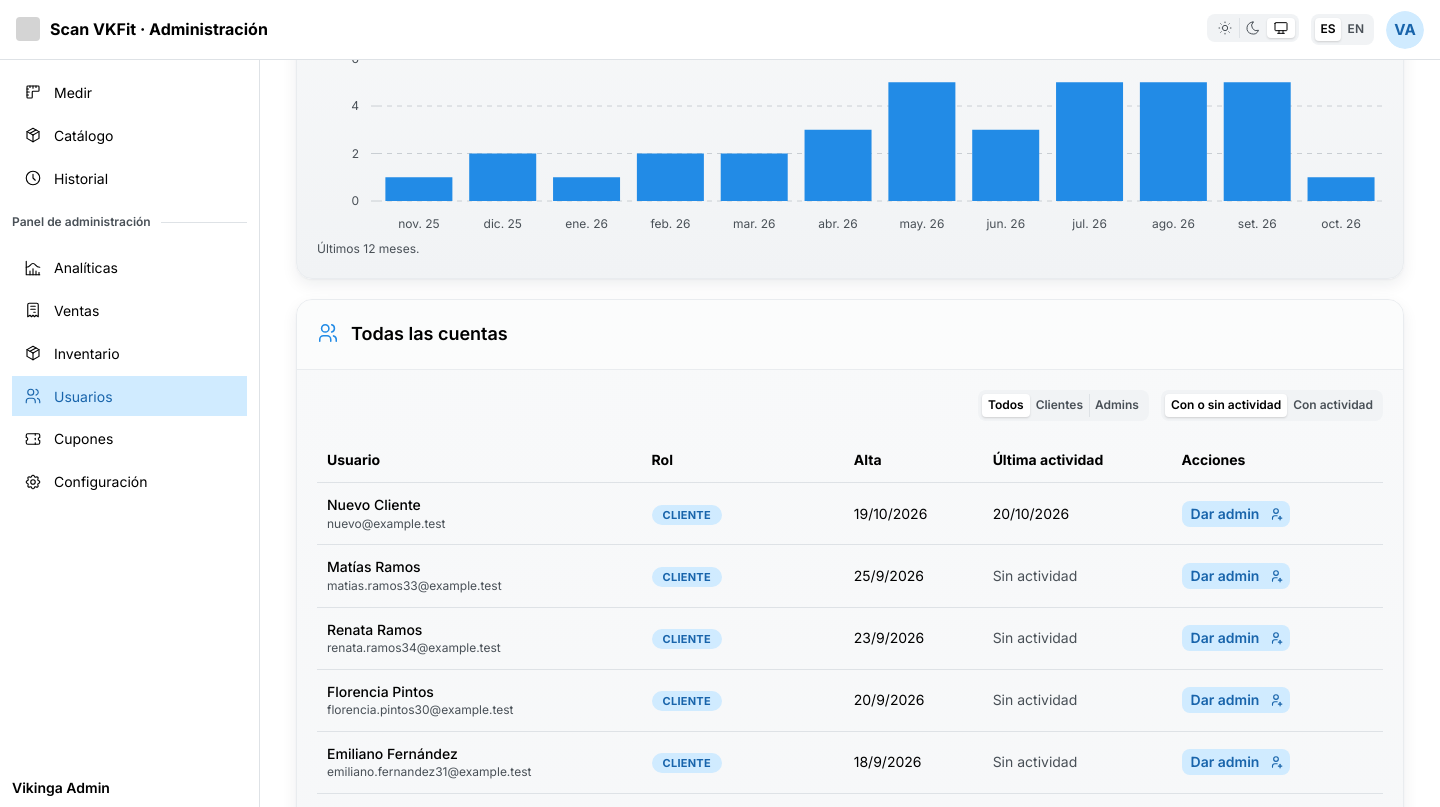
Scenario: cuentas y roles › filtra por rol desde el segmentado
(page scrolled)
Expected: the text "nuevo@example.test" is shown, [327, 516, 446, 531]
Click the 4th radio button labelled "Admins": (1117, 405) [1095, 397, 1139, 412]
(page scrolled)
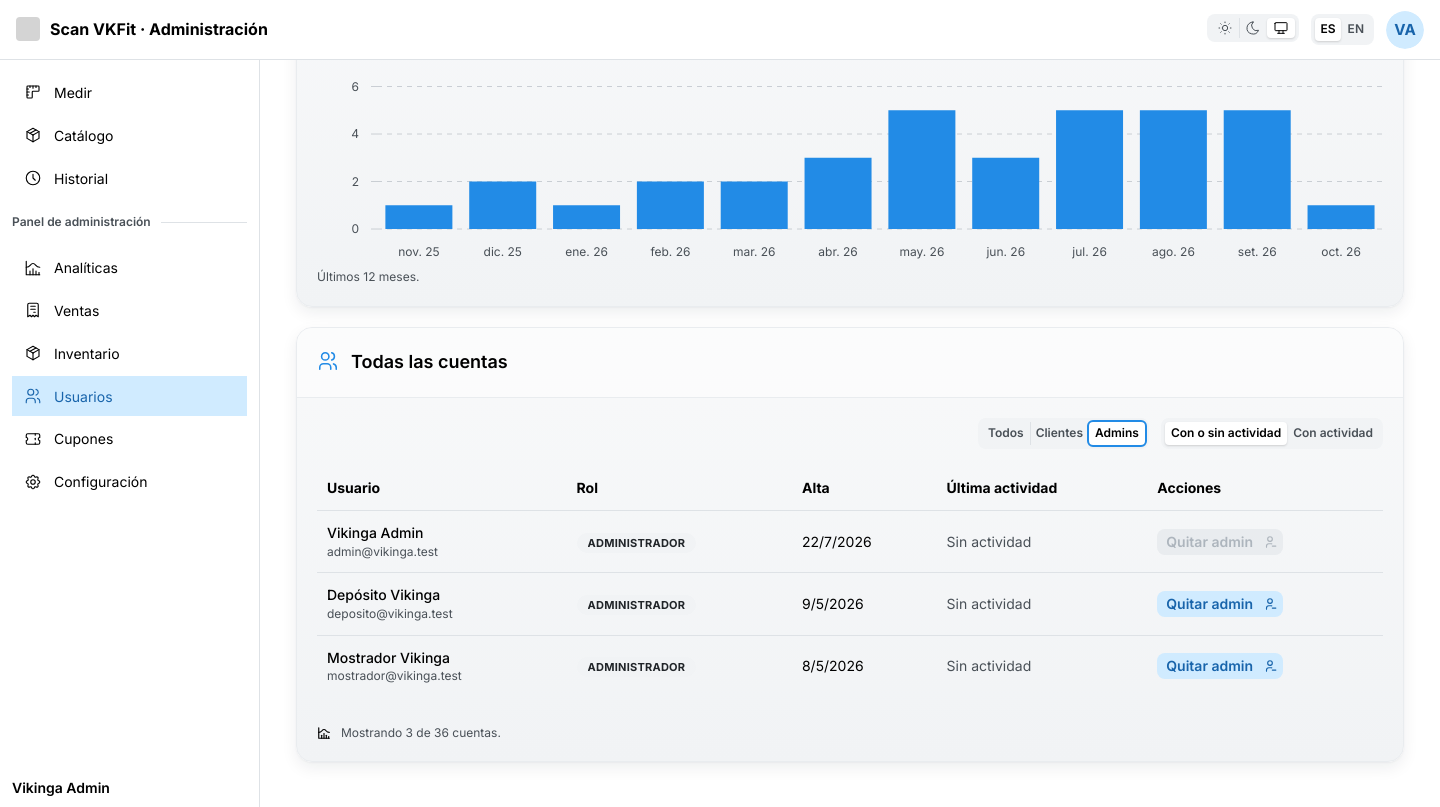
Now the text "nuevo@example.test" is gone
Now the number of rows is 4, box [317, 465, 1383, 511]; [317, 511, 1383, 573]; [317, 573, 1383, 635]; [317, 635, 1383, 697]
Now the text "Mostrando 3 de 36 cuentas." is shown, box [341, 725, 501, 741]
